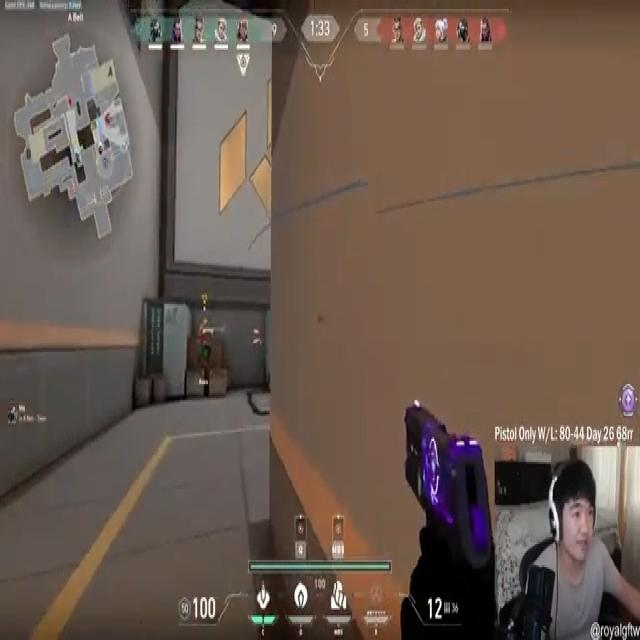ally: (198, 312, 215, 368)
